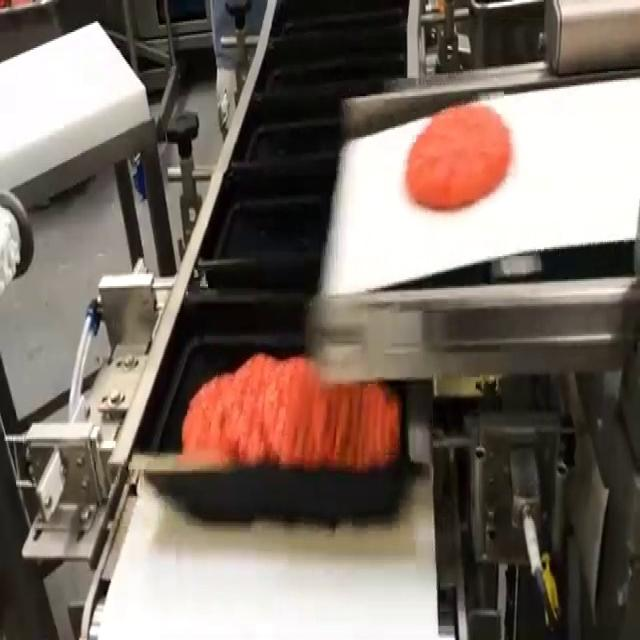4-hamburguer: (182, 354, 401, 469)
